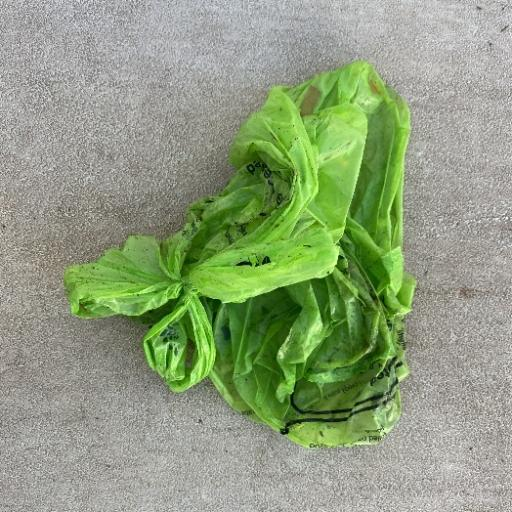Waste: (63, 58, 417, 450)
